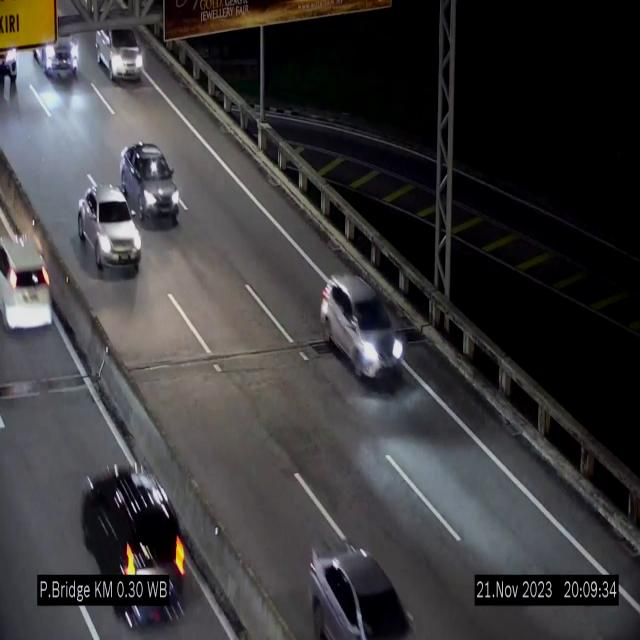Car: (77, 464, 193, 636), (309, 542, 416, 638), (320, 274, 406, 378), (0, 210, 56, 340), (77, 182, 141, 275), (120, 143, 180, 225), (32, 4, 78, 88), (96, 26, 144, 84), (0, 42, 23, 98)
